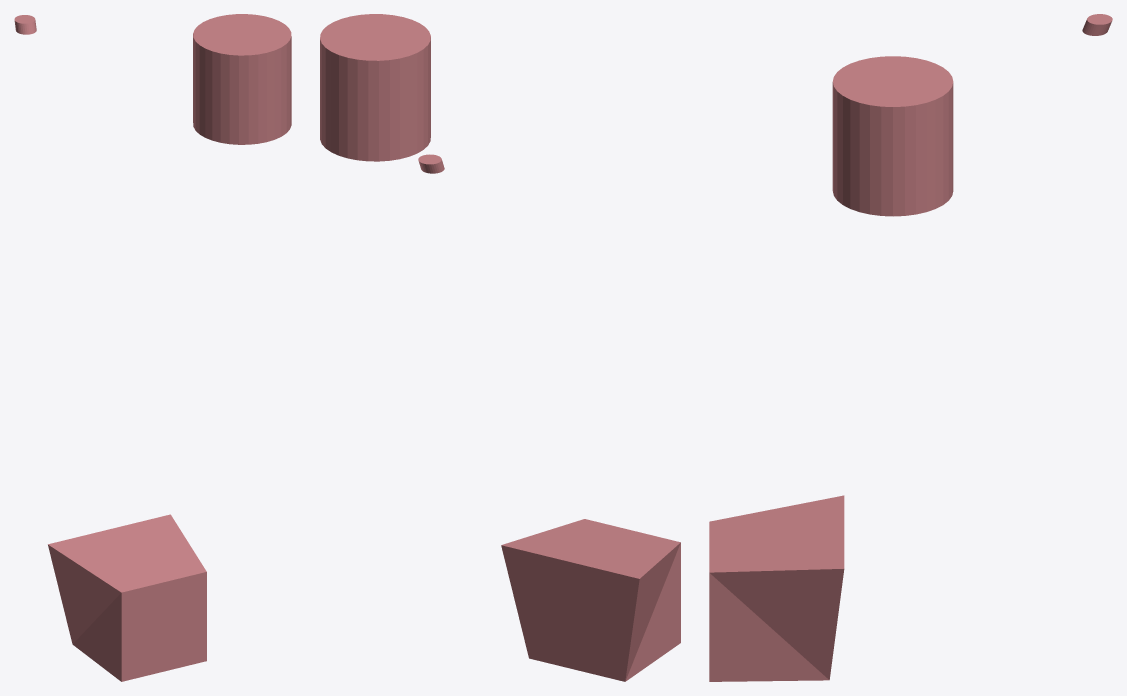
File: prototype.dae
3 renders of one model, left to right at view 1: azimuth 30°, elevation 25°; view 2: azimuth 150°, elevation 25°; view 3: azimuth 270°, elevation 25°, orthographic. The views are drawn at different scales.
Visible parts, largest first — view 1: Cube; view 2: Cube; view 3: Cube.
Boxes of the visible parts, x1,y1,x2,y2 form: Cube: (14, 14, 291, 681); Cube: (320, 14, 680, 681); Cube: (709, 14, 1112, 681).
Bounding box in the file's own units: 6.02 × 6.69 × 12.19.
